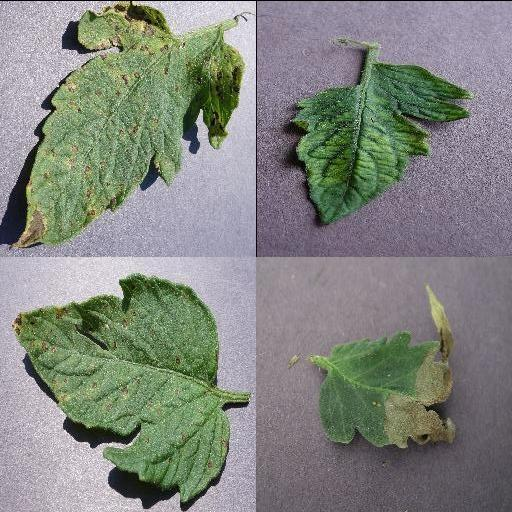Late Blight: (318, 285, 460, 449)
Mosaic Virus: (289, 61, 473, 227)
Septoria: (10, 0, 242, 250), (12, 273, 230, 503)
